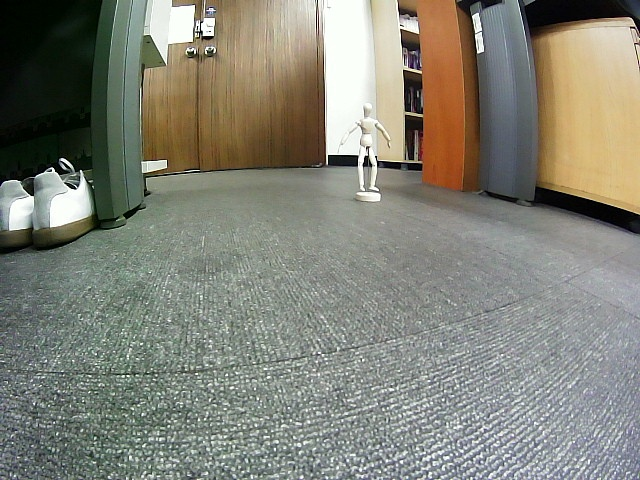person: (338, 104, 392, 190)
